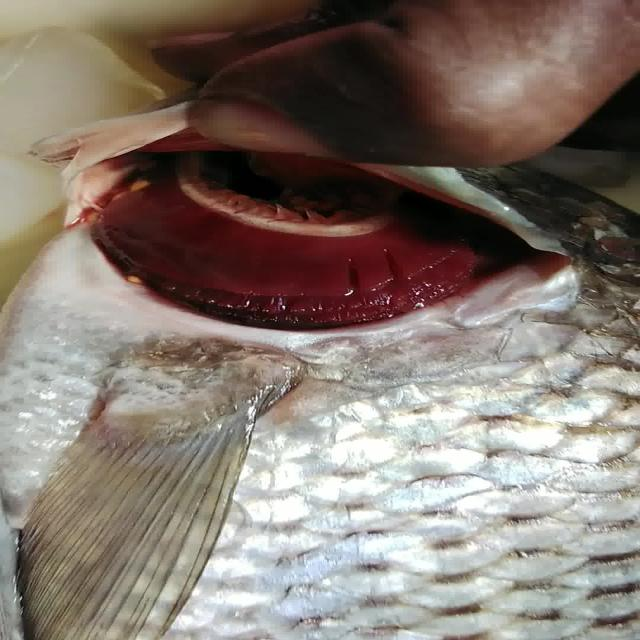Fresh: (26, 129, 537, 350)
